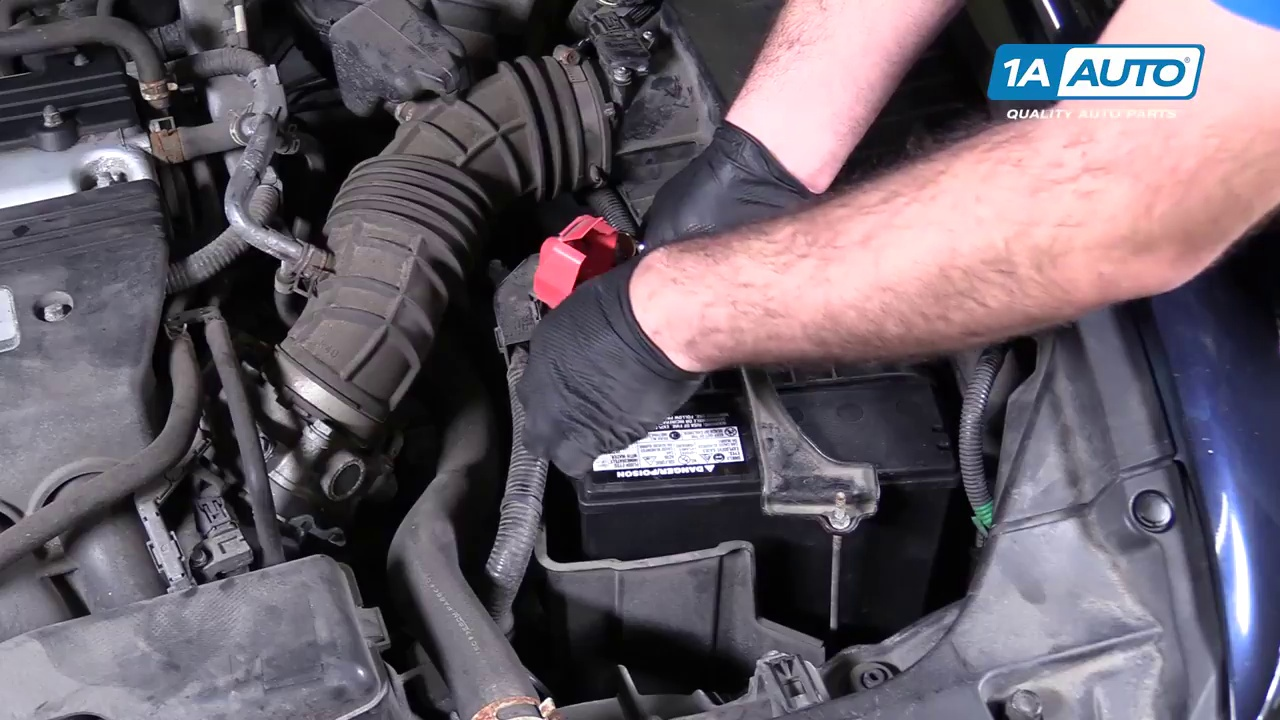battery: (530, 244, 960, 479)
